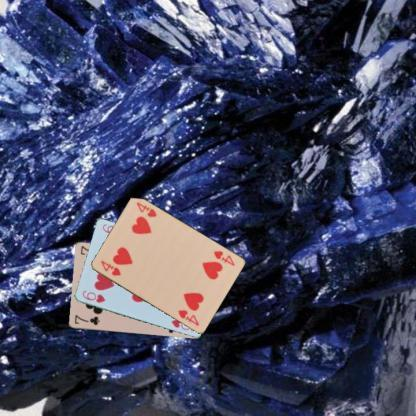4h: (211, 247, 236, 268), (98, 258, 122, 278)
6h: (80, 288, 107, 304)
7c: (72, 312, 100, 326)
